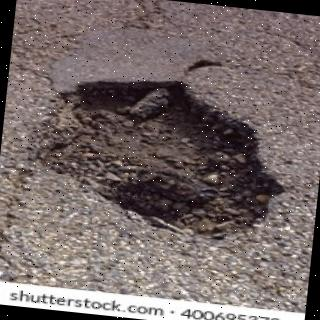pothole: (40, 81, 284, 237)
